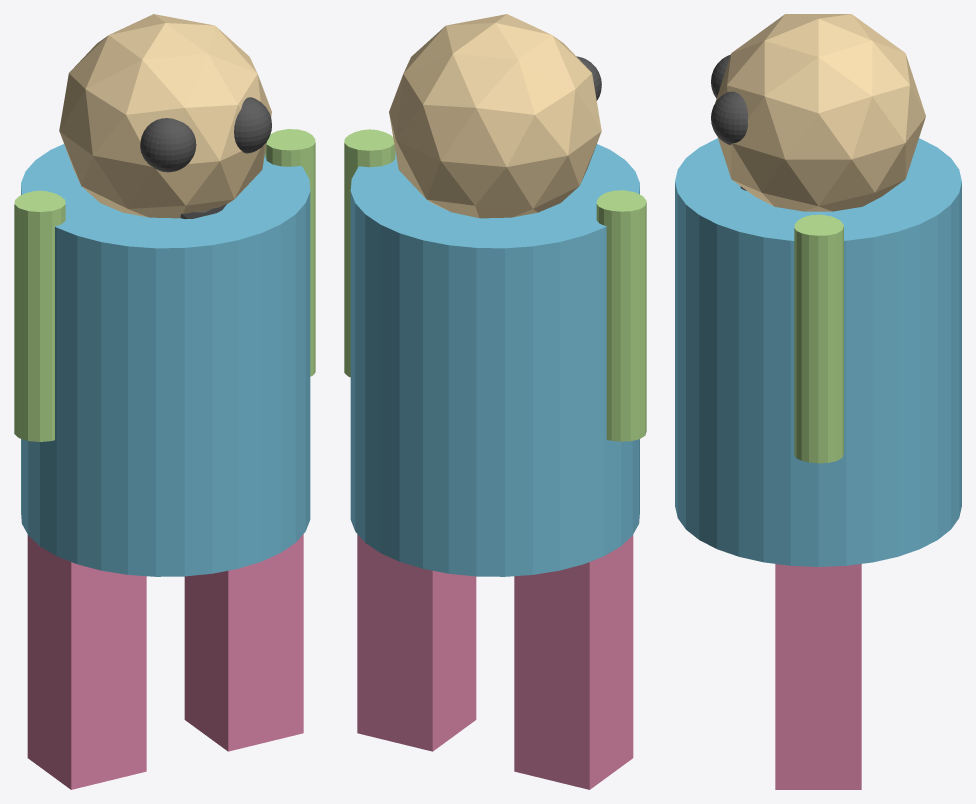
File: character.fbx
3 views of the same model, side by side, from view 1: azimuth 30°, elevation 25°; view 2: azimuth 150°, elevation 25°; view 3: azimuth 270°, elevation 25° (orthographic).
Parts seen in each view (by area): view 1: Body, WhimsicalHead, LeftLeg, RightLeg, WhimsicalLeftArm, WhimsicalRightArm, LeftEye, RightEye; view 2: Body, WhimsicalHead, LeftLeg, RightLeg, WhimsicalLeftArm, WhimsicalRightArm; view 3: Body, WhimsicalHead, RightLeg, WhimsicalRightArm, RightEye.
Part boxes in pixels (x1,y1,x2,y2): Body: (21, 144, 310, 576); WhimsicalHead: (59, 14, 271, 218); LeftLeg: (27, 535, 146, 789); RightLeg: (184, 534, 303, 751); WhimsicalLeftArm: (14, 190, 65, 441); WhimsicalRightArm: (265, 129, 315, 376); LeftEye: (140, 118, 196, 172); RightEye: (234, 97, 271, 153); Body: (350, 144, 639, 576); WhimsicalHead: (389, 14, 601, 218); LeftLeg: (514, 535, 633, 789); RightLeg: (357, 534, 476, 751); WhimsicalLeftArm: (596, 190, 646, 441); WhimsicalRightArm: (344, 129, 395, 377); Body: (675, 138, 961, 566); WhimsicalHead: (715, 14, 925, 211); RightLeg: (775, 564, 861, 789); WhimsicalRightArm: (794, 214, 843, 463); RightEye: (711, 91, 747, 145).
Size of the model in its own units: 93.94 by 220 by 80.
